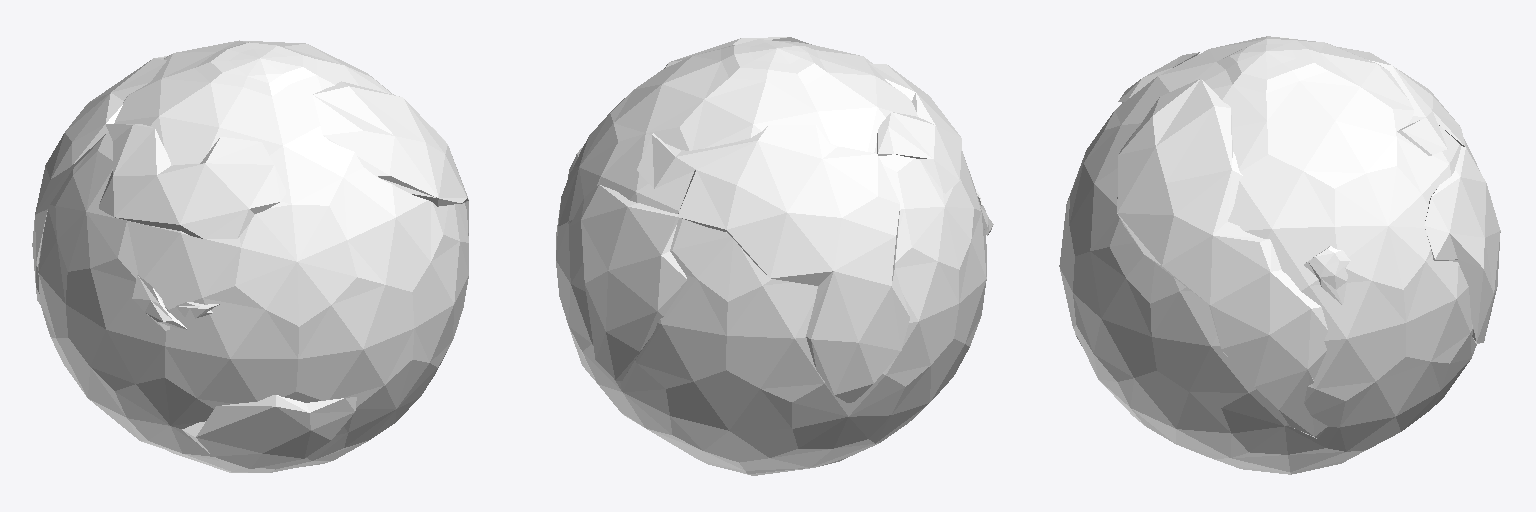
The model's file is Earth.obj.
3 views of the same model, side by side, from view 1: azimuth 30°, elevation 25°; view 2: azimuth 150°, elevation 25°; view 3: azimuth 270°, elevation 25° (orthographic).
Parts seen in each view (by area): view 1: Icosphere_Icosphere.001; view 2: Icosphere_Icosphere.001; view 3: Icosphere_Icosphere.001.
Part boxes in pixels (x1,y1,x2,y2): Icosphere_Icosphere.001: (32, 40, 468, 472); Icosphere_Icosphere.001: (556, 37, 993, 475); Icosphere_Icosphere.001: (1059, 36, 1500, 474).
Size of the model in its own units: 7.23 by 7.36 by 7.24.